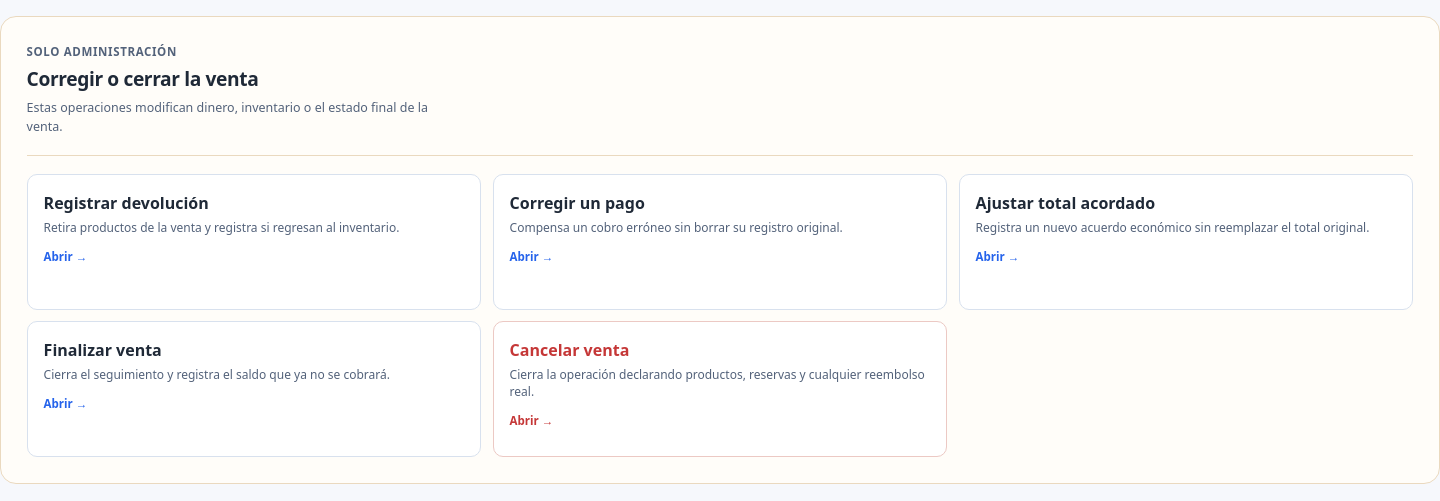
it: sale administration › adjusts the agreed total without allowing it below the amount already paid
The width and height of the screenshot is (1440, 501).
Click the button "Ajustar total acordado" at (1065, 203), box [959, 174, 1413, 310]
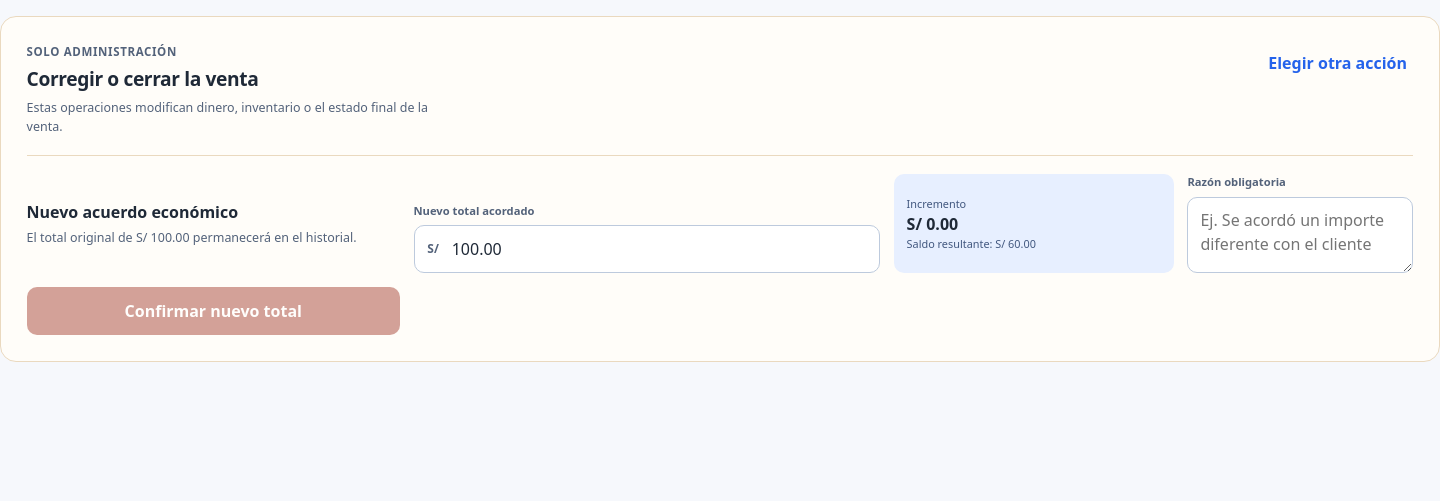
Replace the text in the field labelled "Nuevo total acordado" with "30" at (659, 250), box [439, 226, 879, 272]
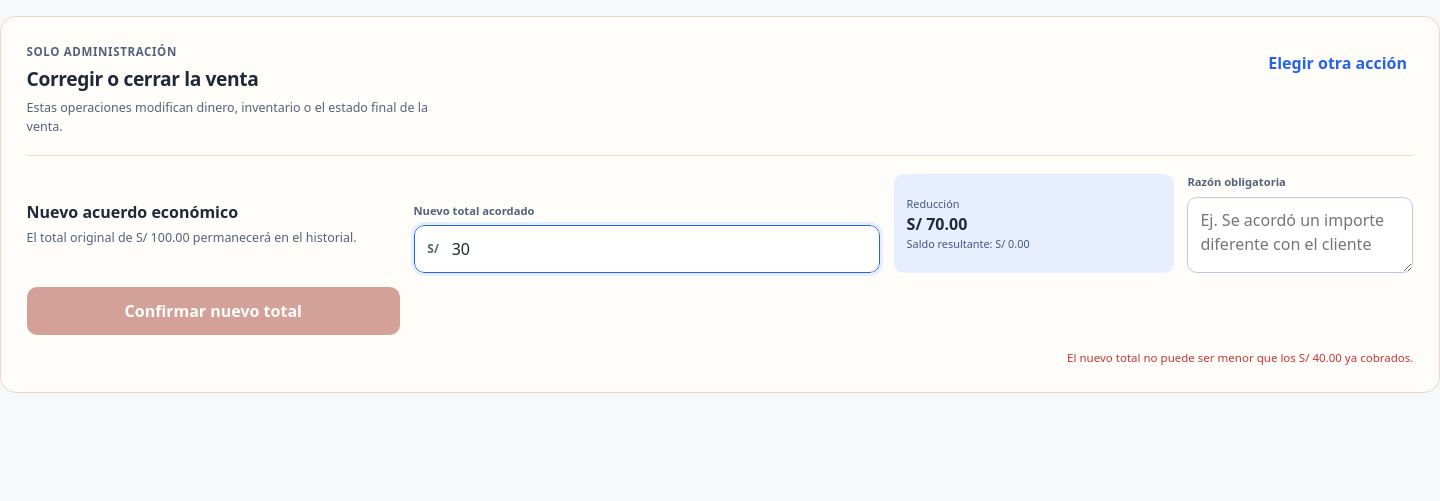
Replace the text in the field labelled "Nuevo total acordado" with "90" at (659, 250), box [439, 226, 879, 272]
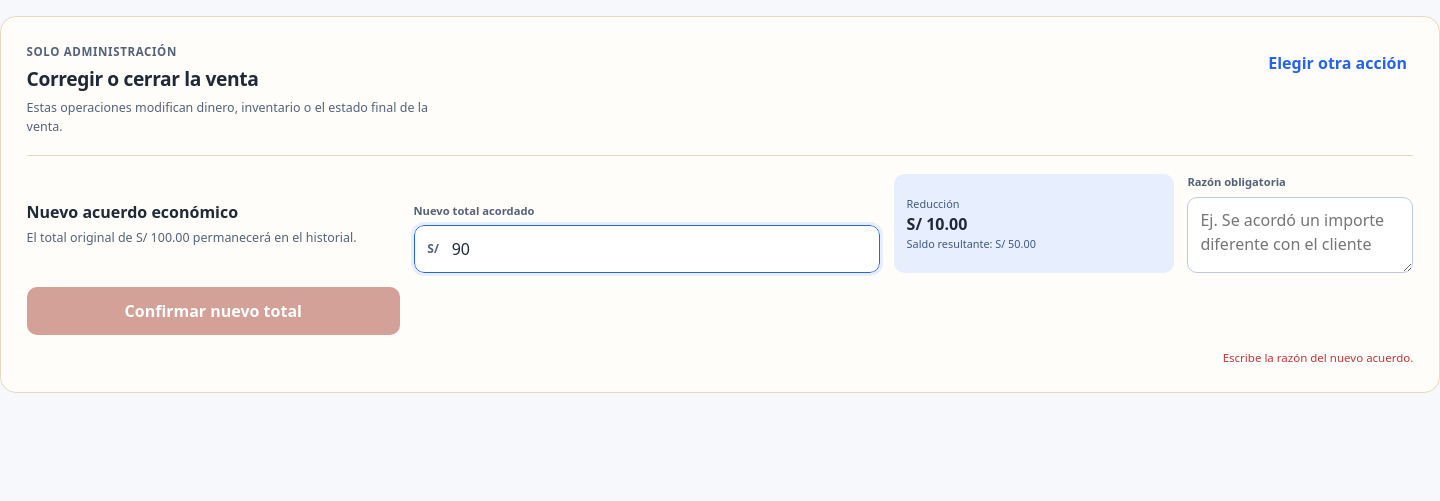
Type "Nuevo acuerdo" into the text box labelled "Razón obligatoria" at (1300, 235), box [1187, 197, 1413, 274]
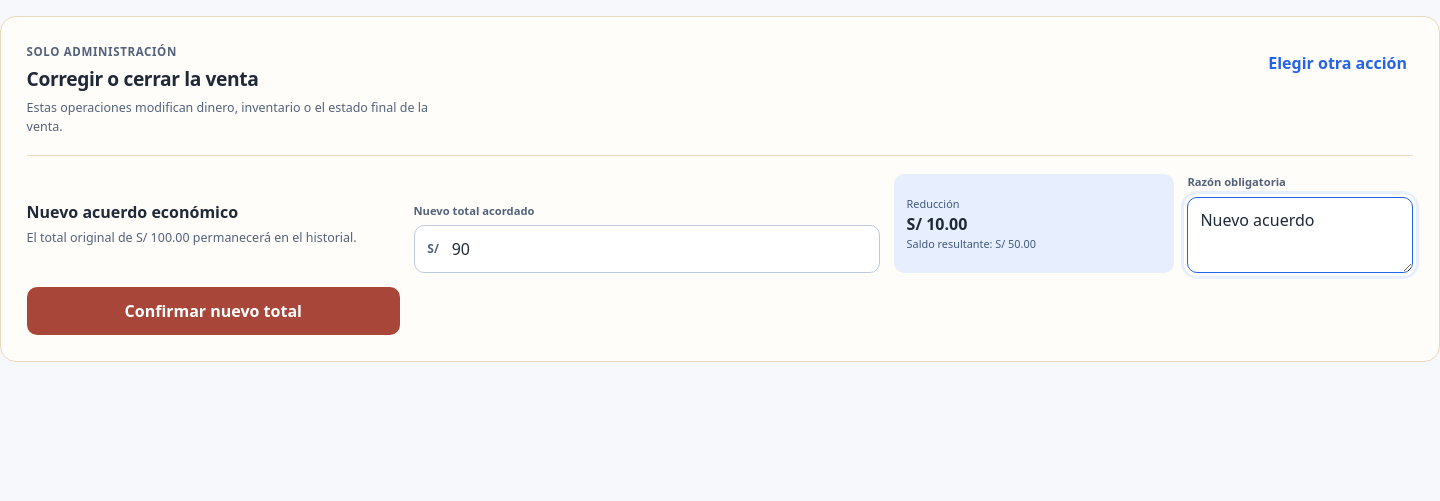
Click the button "Confirmar nuevo total" at (213, 311), box [27, 287, 400, 335]
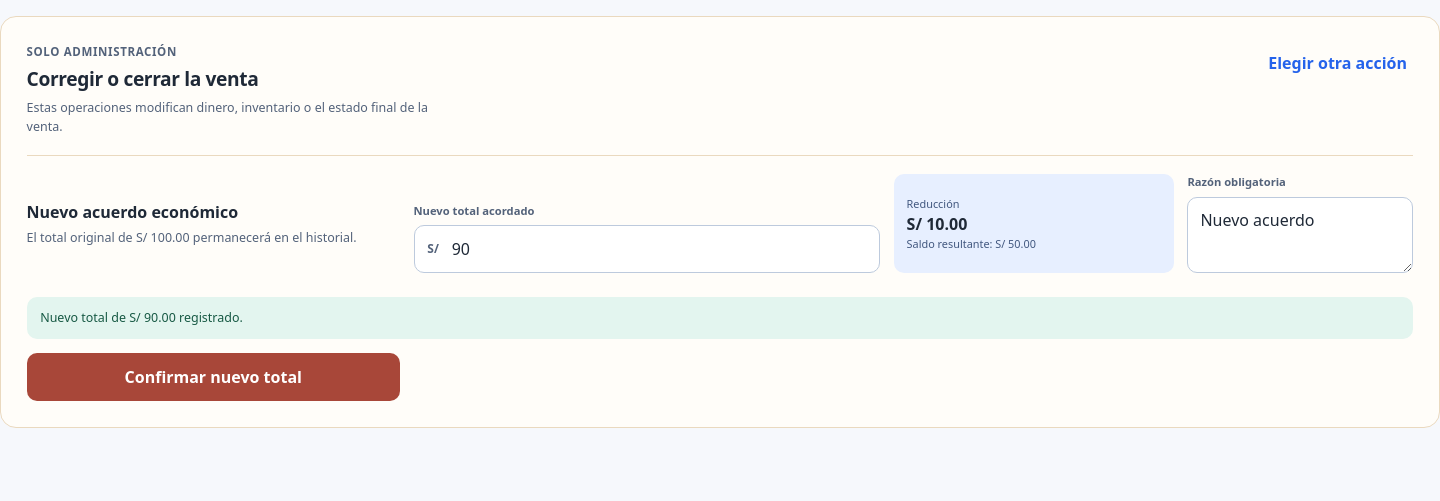
expect the text "Nuevo total de S/ 90.00 registrado." is shown: met, box [27, 297, 1413, 339]
